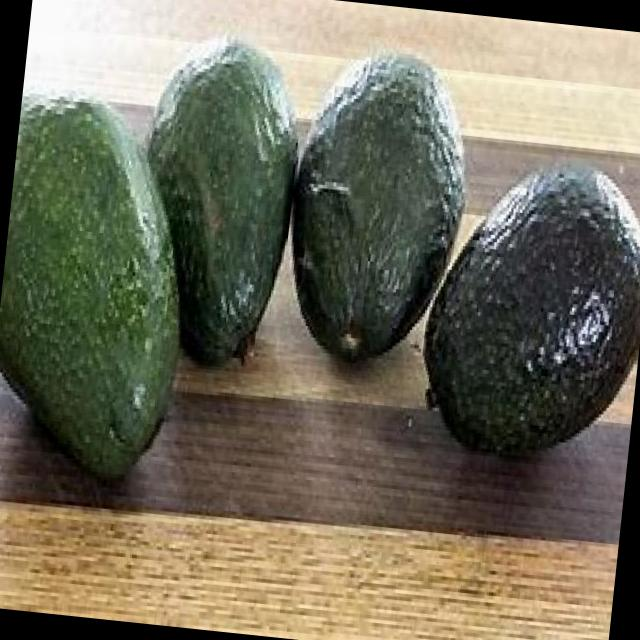avocado: (0, 76, 205, 479), (276, 46, 477, 402), (417, 157, 640, 477), (118, 30, 310, 388)
